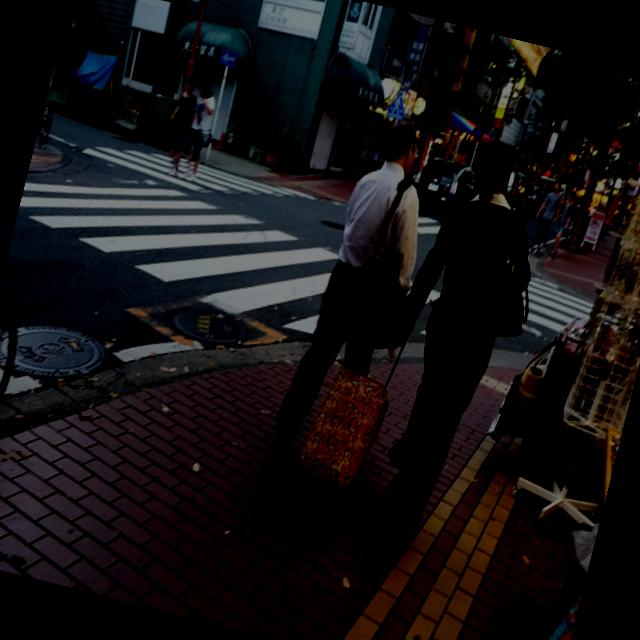Vehicle: (413, 157, 482, 223), (503, 170, 531, 208)
